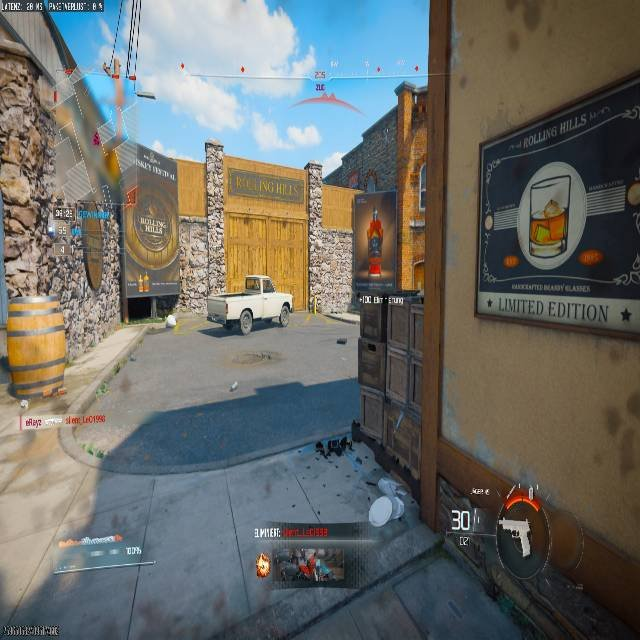player: (278, 301, 292, 327)
